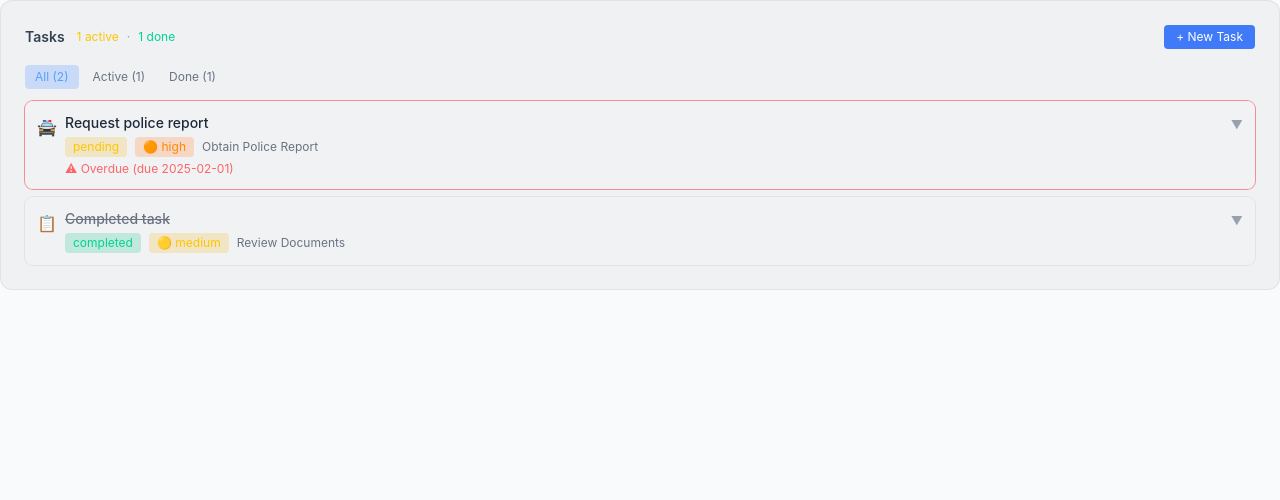
Test case: TaskPanel › expands and collapses TaskCard
Click the button with aria-label "expand request police report" at {"x": 137, "y": 122}, box left=25, top=101, right=1255, bottom=189
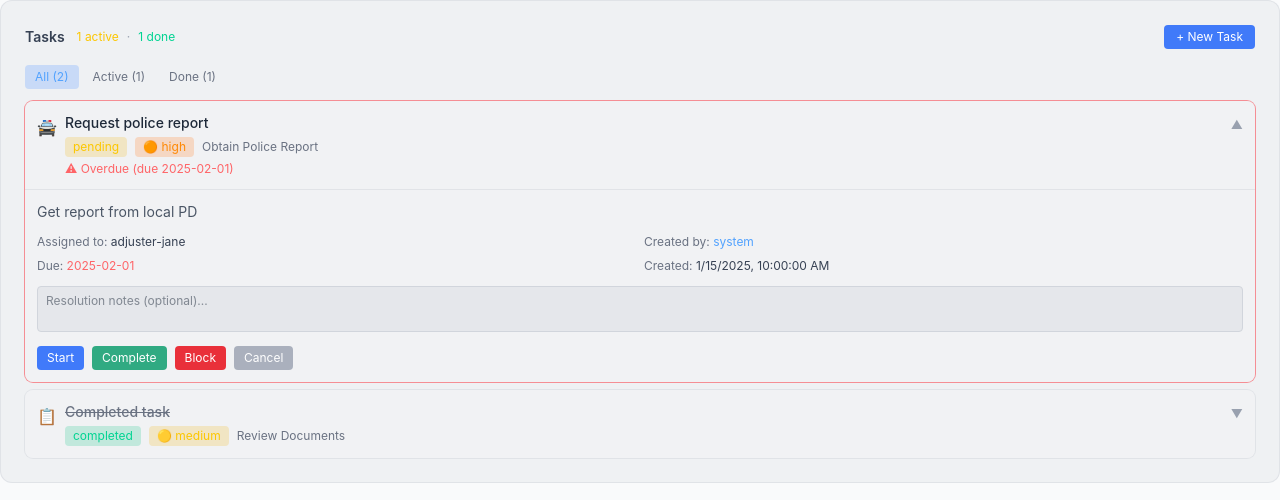
Check: the text "Get report from local PD" is shown, box left=37, top=203, right=197, bottom=220
Check: the text "Assigned to:" is shown, box left=37, top=234, right=111, bottom=249
Check: the text "adjuster-jane" is shown, box left=111, top=234, right=185, bottom=249
Click the button with aria-label "collapse request police report" at {"x": 137, "y": 122}, box left=25, top=101, right=1255, bottom=189
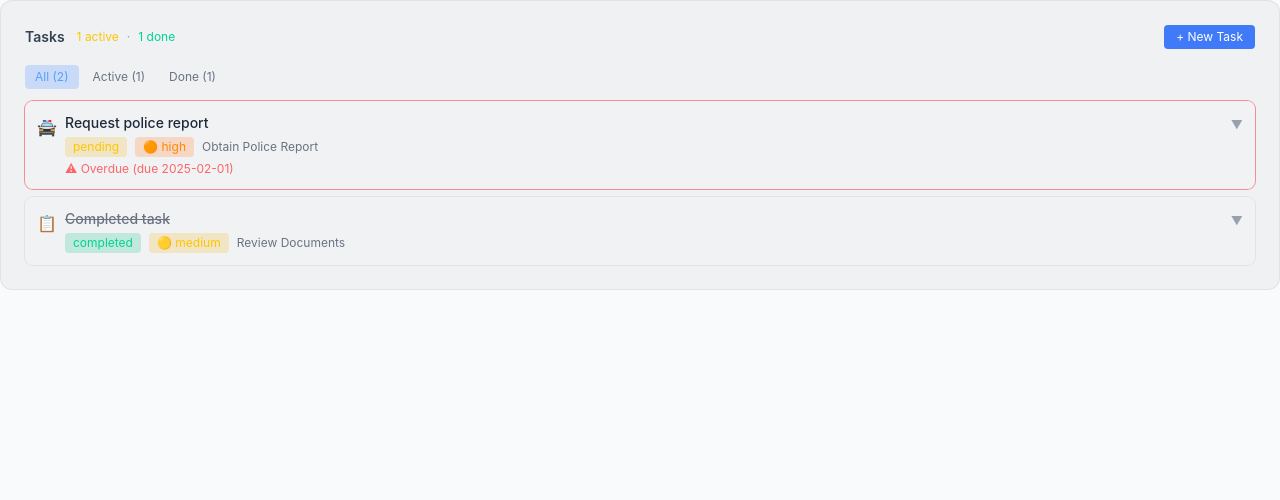
Check: the text "Get report from local PD" is gone
